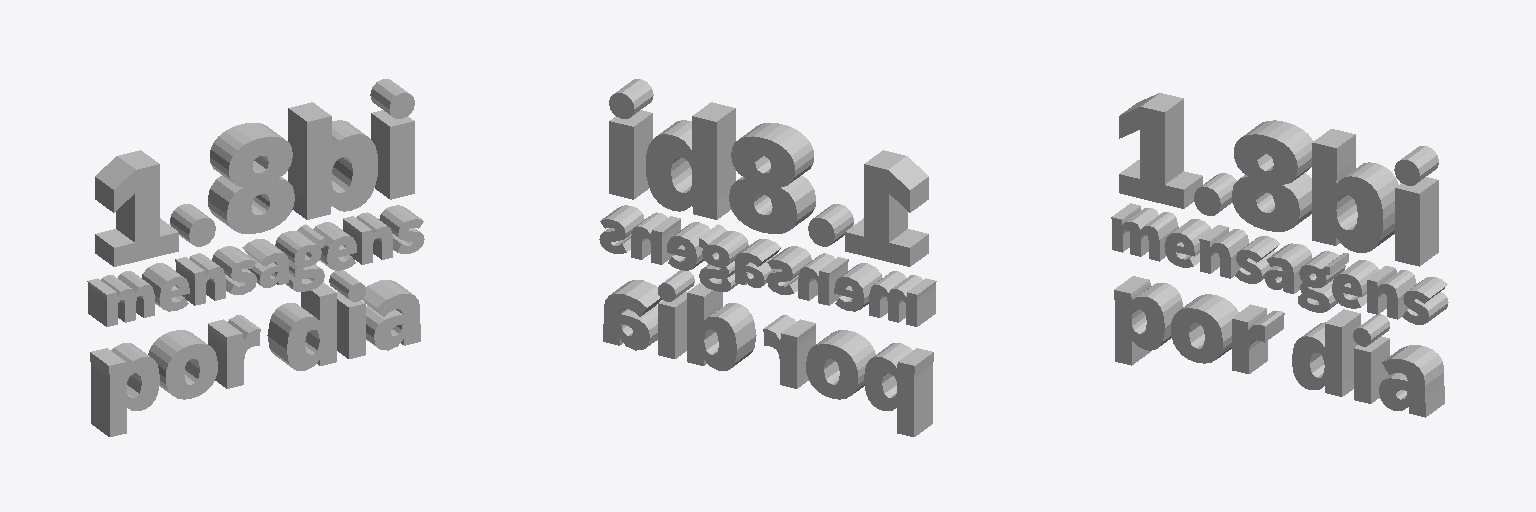
The picture shows the model from 3 angles: view 1: azimuth 30°, elevation 25°; view 2: azimuth 150°, elevation 25°; view 3: azimuth 330°, elevation 25°; orthographic projection.
Visible parts, largest first — view 1: obj_0; view 2: obj_0; view 3: obj_0.
Part boxes in pixels (x1,y1,x2,y2): obj_0: (87,79,424,436); obj_0: (599,79,936,436); obj_0: (1111,93,1448,417).
Bounding box in the file's own units: 674 × 553 × 70.